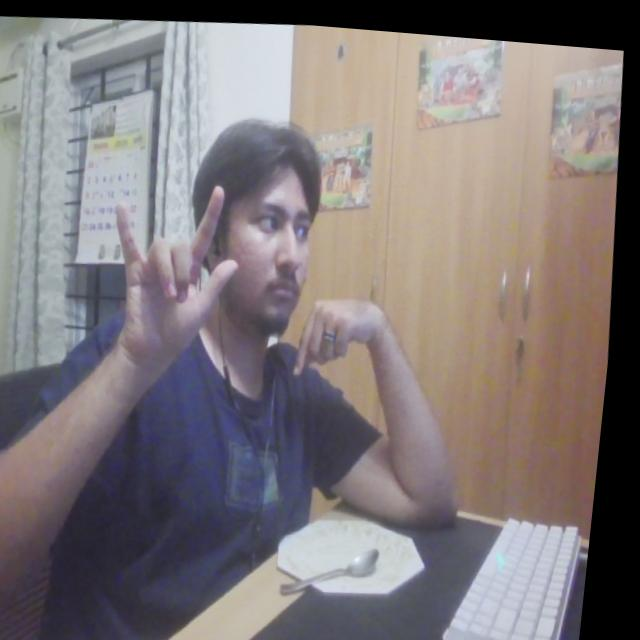iloveyou: (99, 169, 261, 365)
